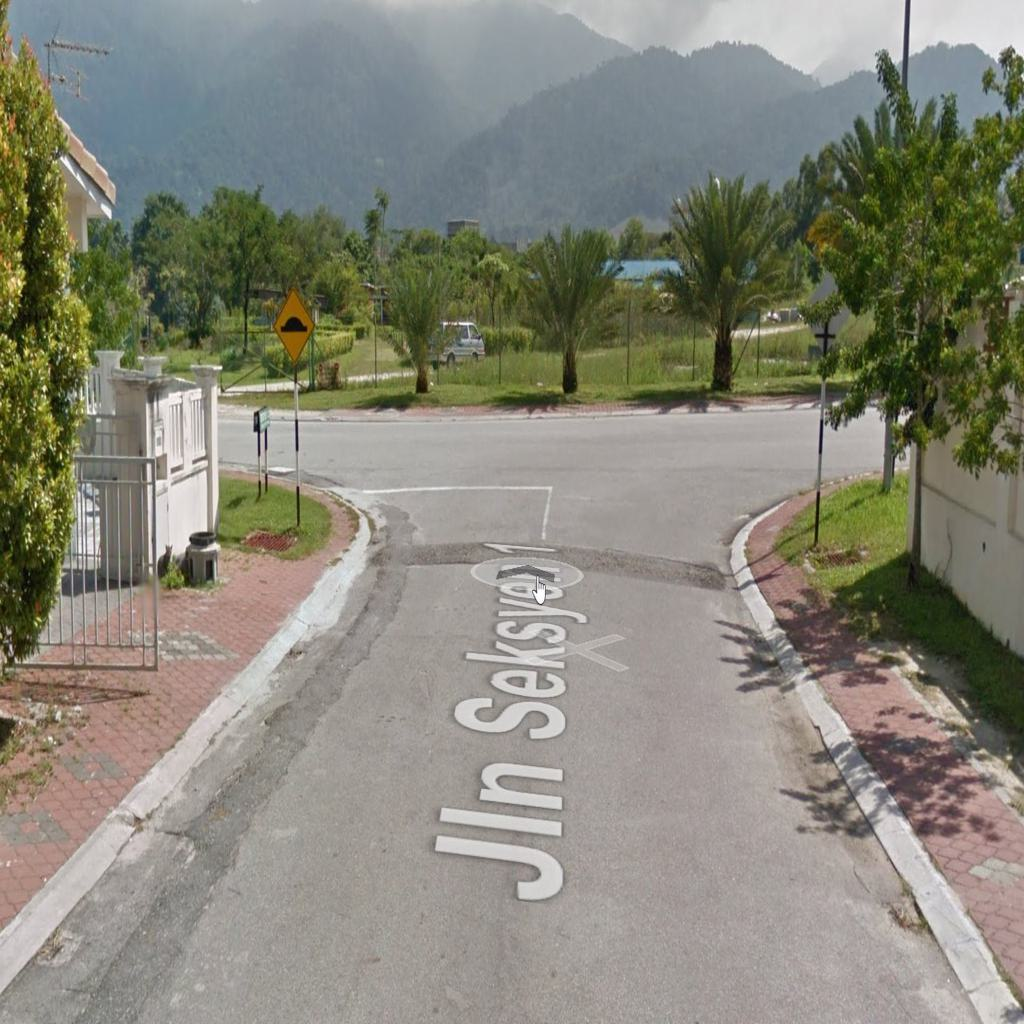Junction: (690, 365, 909, 563), (218, 396, 415, 562)
